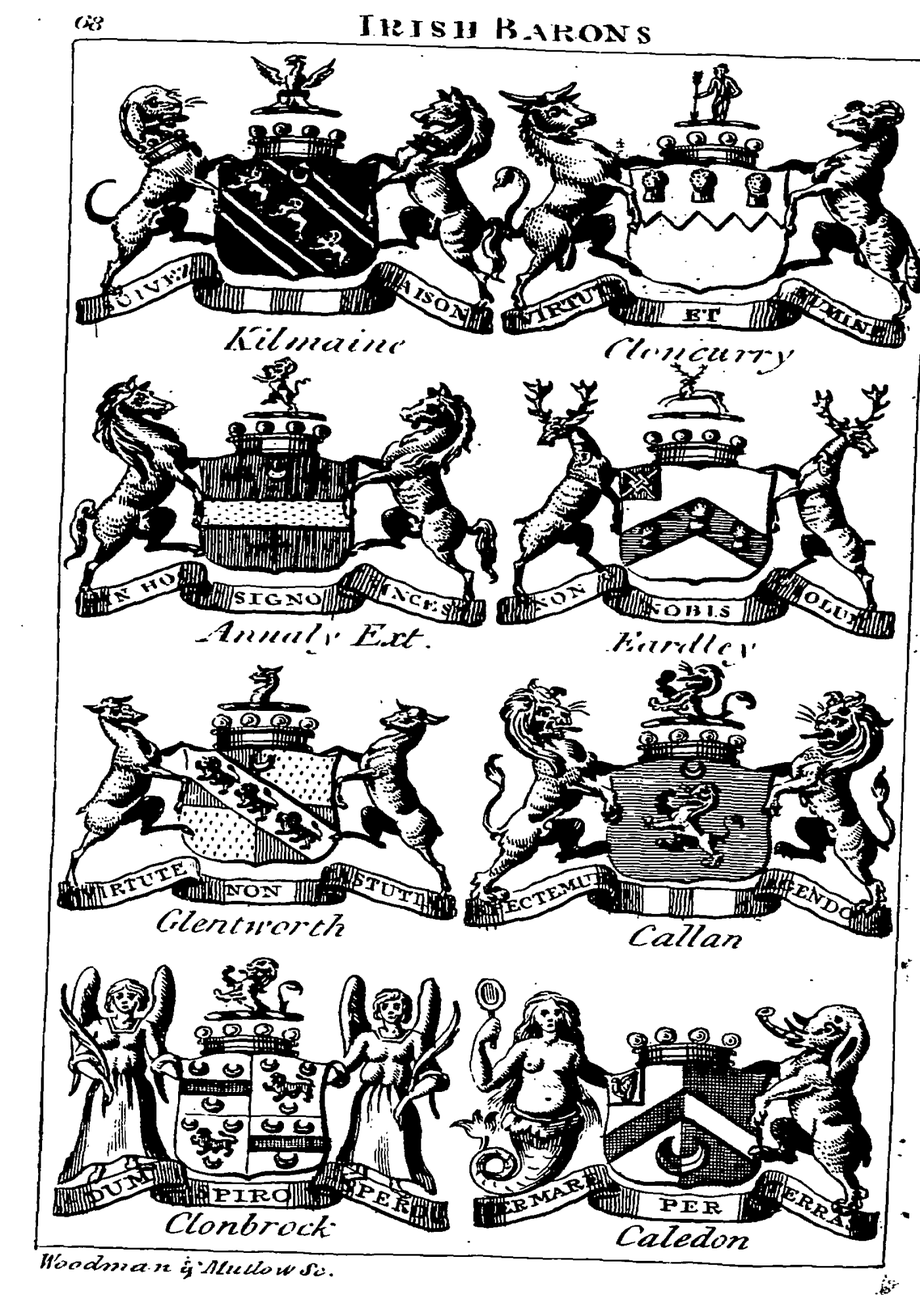coat_of_arms: (495, 65, 908, 382), (79, 51, 497, 364), (480, 655, 896, 959), (61, 946, 455, 1252), (471, 968, 882, 1261), (500, 371, 904, 666), (88, 365, 490, 656), (70, 660, 463, 951)
